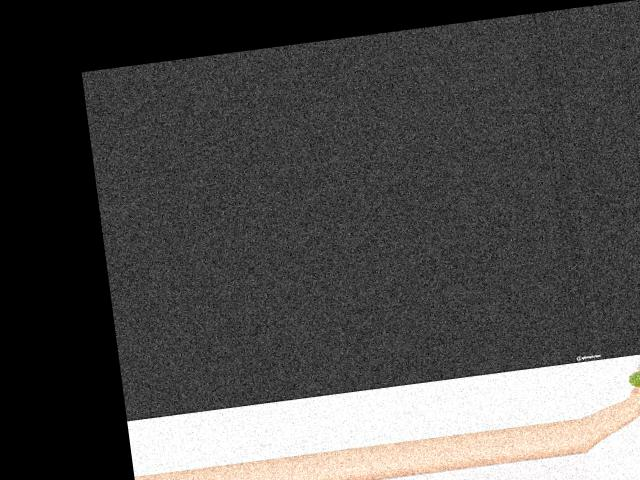cucumber: (627, 354, 640, 387)
